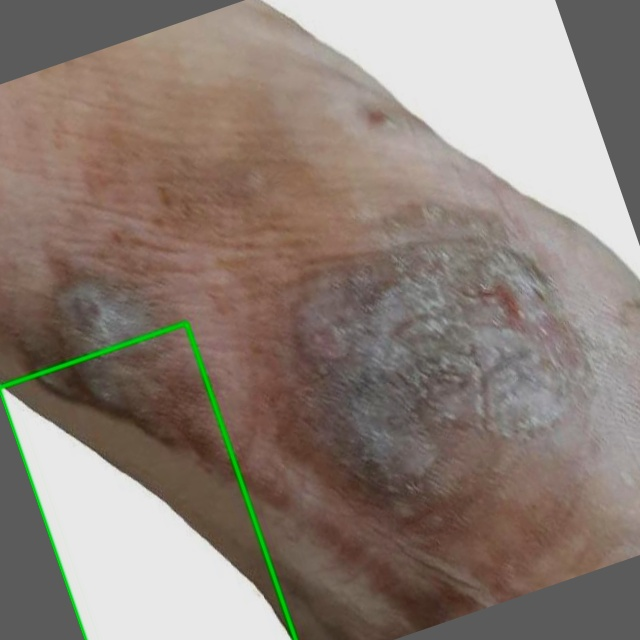Contact Dermatitis: (0, 323, 295, 639)
